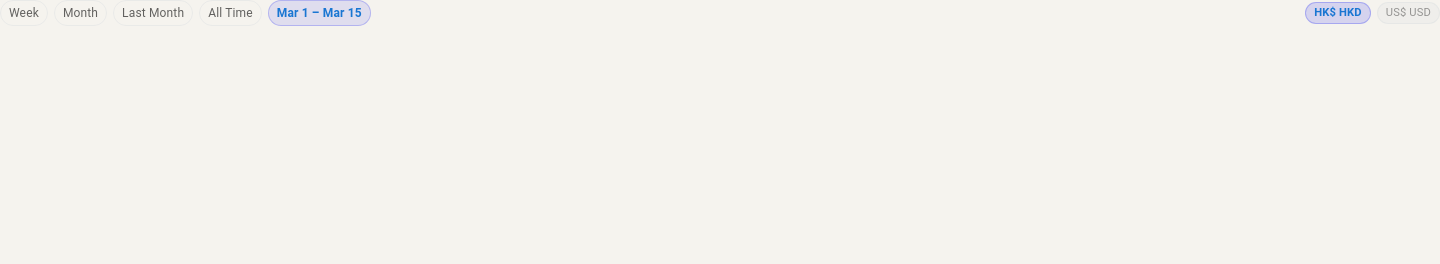
Scenario: DateRangeControl › clicking custom chip when active opens popover
Note: When custom is active, the chip shows the date range
Click the button "Mar 1 – Mar 15" at {"x": 319, "y": 13}, box top-left (268, 0), bottom-right (371, 26)
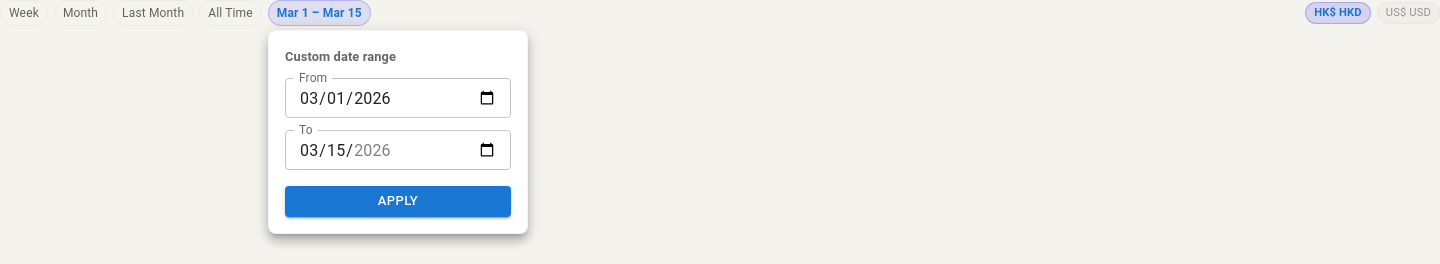
expect the text "Custom date range" is shown: met, box top-left (285, 49), bottom-right (396, 64)
